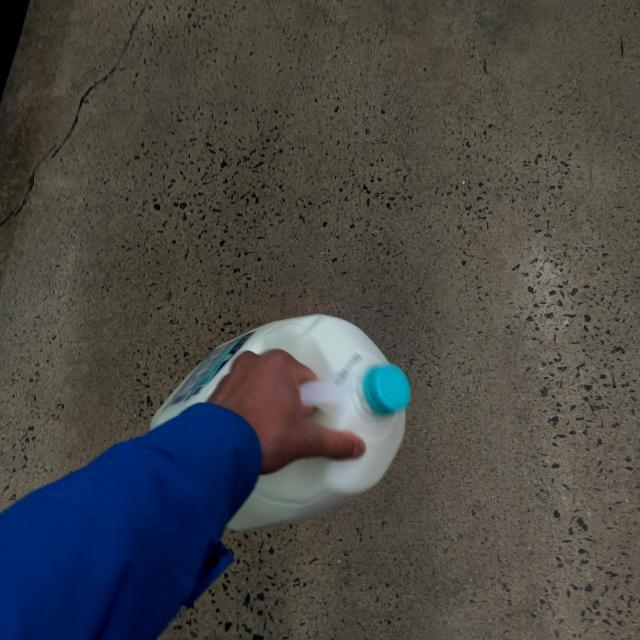milk: (117, 294, 425, 566)
